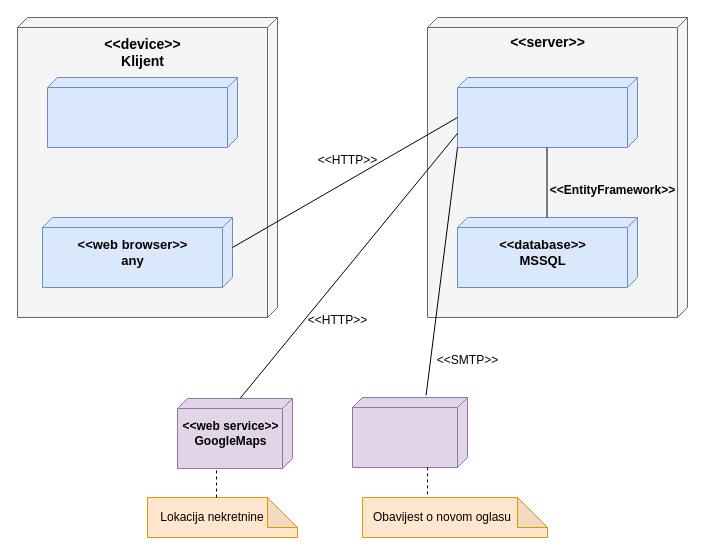
The diagram is 705 pixels wide and 555 high, and some of its shapes have lost their labels. The centre of each missing label's shape, as x and y in pixels:
<<operating system>> any: the point at 142,112
<<web service>> Gmail: the point at 410,432
<<web-application>> RealEstateHub: the point at 547,112
